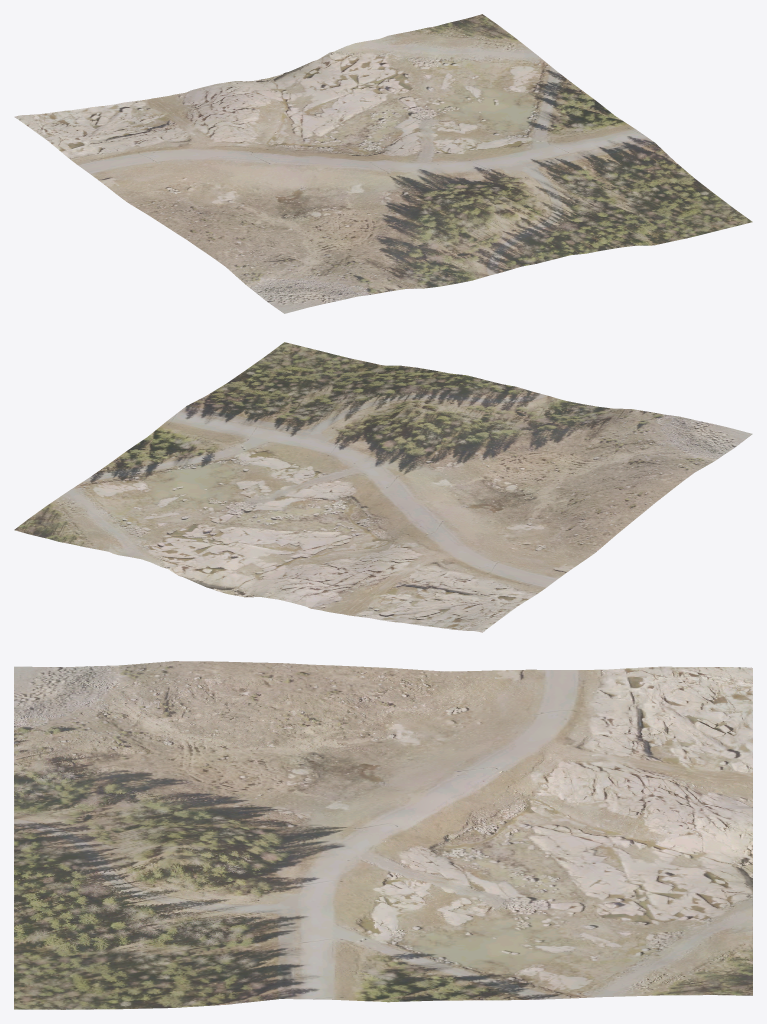
Rendered from CM_Terrain_24493735_6814879.fbx.
The picture shows the model from 3 angles, top to bottom: view 1: azimuth 30°, elevation 25°; view 2: azimuth 150°, elevation 25°; view 3: azimuth 270°, elevation 25°; orthographic projection. The views are drawn at different scales.
Parts seen in each view (by area): view 1: CM_Terrain_24493735_6814879_LOD0; view 2: CM_Terrain_24493735_6814879_LOD0; view 3: CM_Terrain_24493735_6814879_LOD0.
Boxes of the visible parts, left/top/right/bottom form: CM_Terrain_24493735_6814879_LOD0: left=14, top=14, right=752, bottom=313; CM_Terrain_24493735_6814879_LOD0: left=14, top=342, right=752, bottom=632; CM_Terrain_24493735_6814879_LOD0: left=14, top=661, right=752, bottom=1009.
Size of what is drawn, in the model's own units: 205 by 11.9 by 205.
